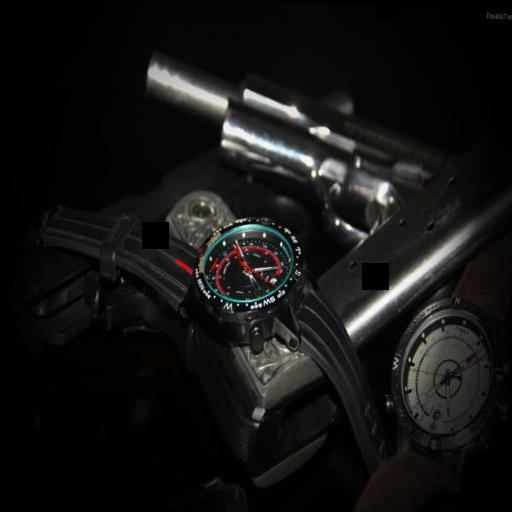Handgun: (3, 72, 358, 494), (135, 40, 512, 332)
